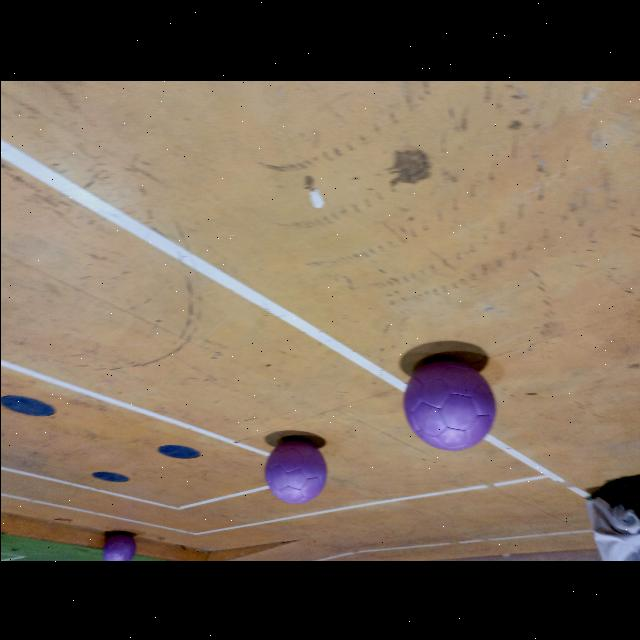P: (404, 360, 494, 450), (264, 439, 326, 503), (102, 532, 134, 560)
